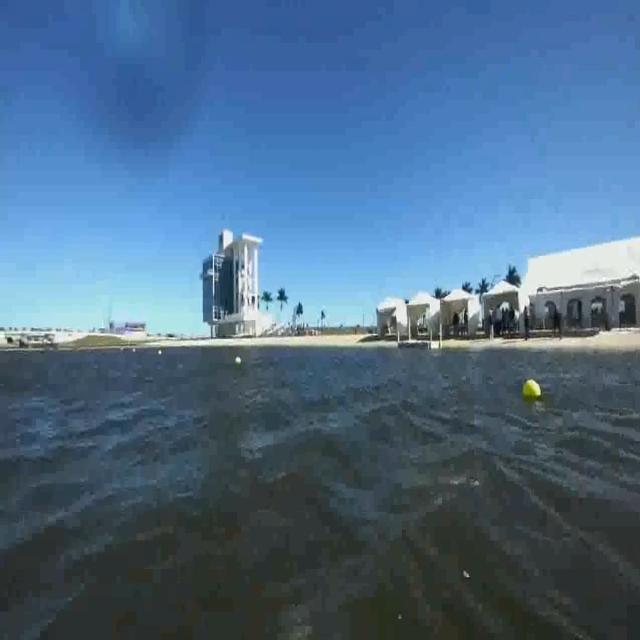yellow-buoy: (525, 378, 544, 398)
